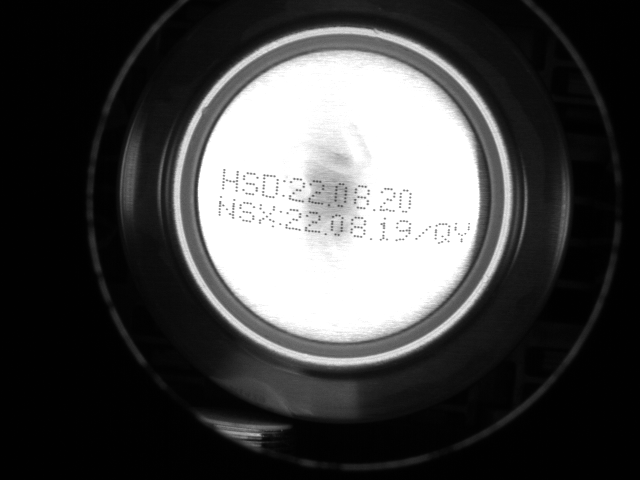/: (417, 221, 434, 247)
0: (396, 188, 416, 213), (329, 214, 347, 240), (333, 182, 350, 207)
1: (373, 217, 394, 243)
2: (281, 207, 303, 235), (309, 178, 328, 207), (376, 187, 396, 213), (288, 176, 307, 203), (306, 211, 325, 235)
8: (349, 215, 368, 240), (353, 184, 371, 210)
9: (395, 214, 413, 245)
D: (262, 172, 281, 200)
H: (220, 165, 239, 195)
N: (217, 198, 236, 221)
Q: (435, 220, 452, 248)
S: (242, 169, 261, 195), (238, 200, 255, 227)
X: (258, 204, 277, 229)
Y: (452, 219, 470, 246)
